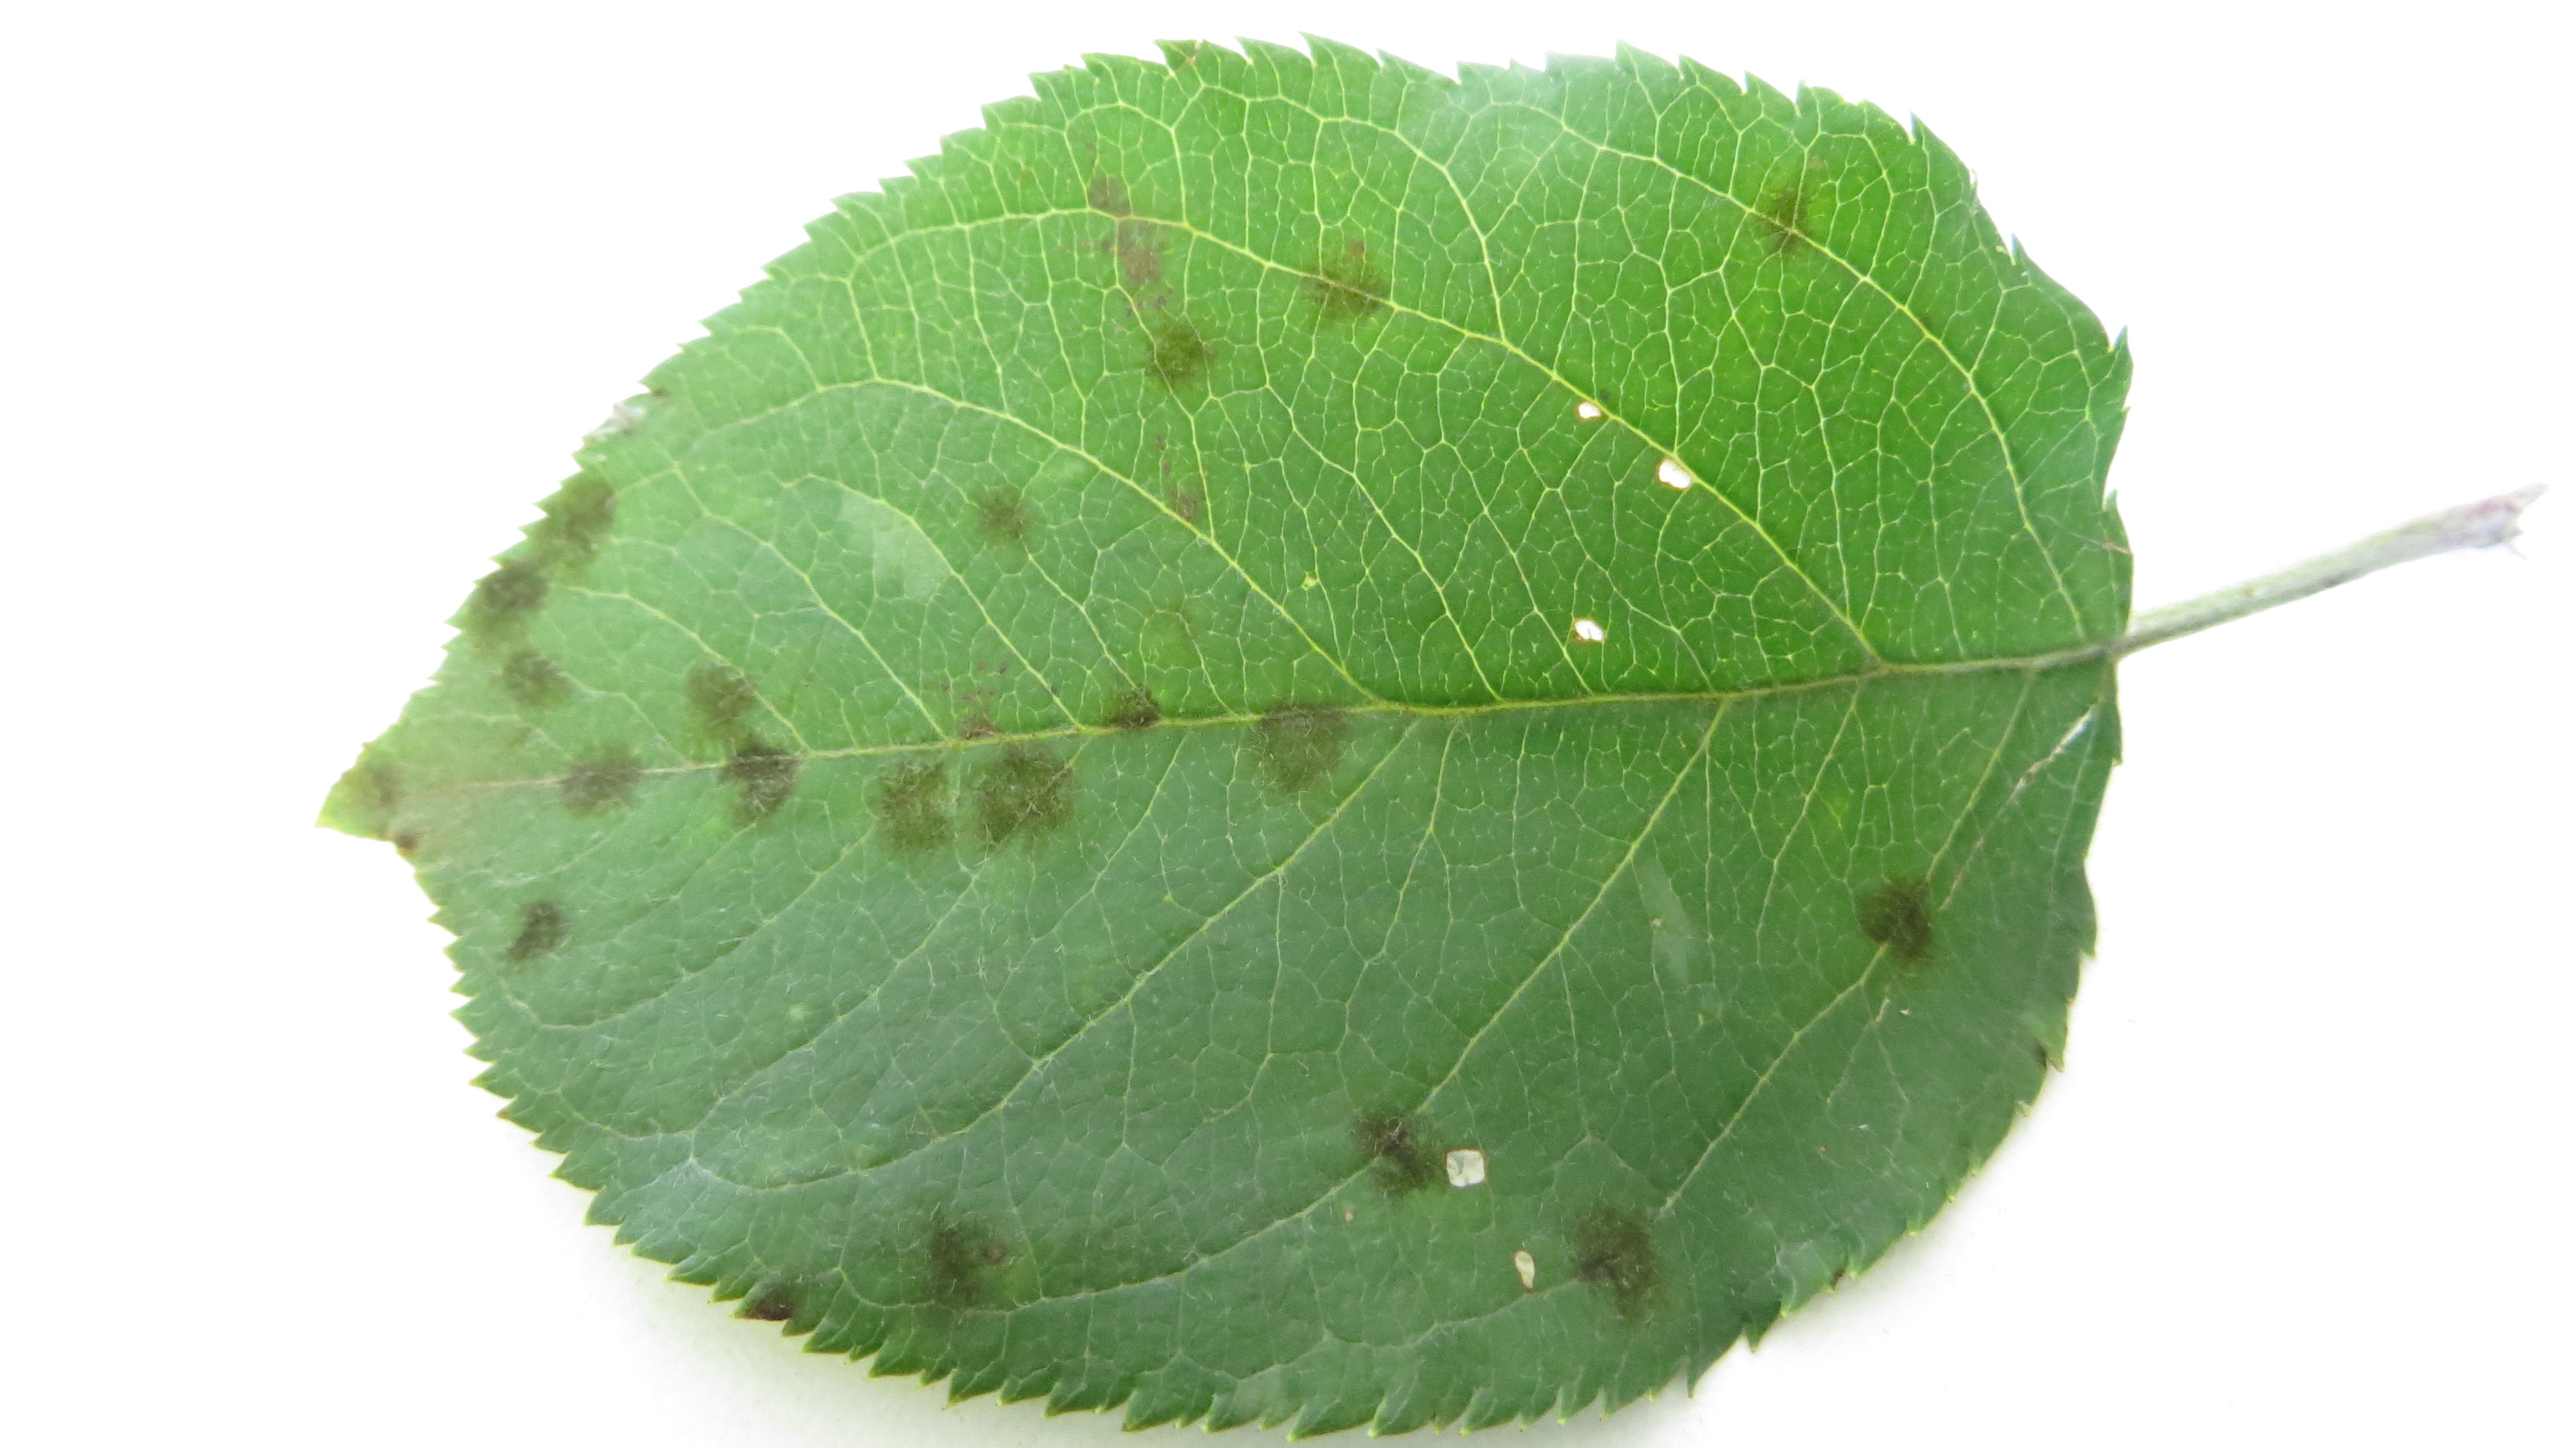sarna: (1076, 170, 1189, 308), (1237, 687, 1357, 802), (1345, 1089, 1456, 1209), (968, 738, 1085, 851), (847, 747, 957, 862), (541, 722, 660, 828), (1557, 1202, 1658, 1321), (345, 736, 441, 859), (911, 1214, 1005, 1335), (1281, 243, 1398, 336), (533, 458, 632, 565), (1854, 862, 1941, 974), (924, 660, 1024, 749), (487, 889, 579, 982), (446, 554, 556, 632), (1146, 312, 1235, 407), (1088, 660, 1180, 751), (487, 637, 587, 719), (1741, 170, 1822, 267), (720, 736, 807, 823), (683, 655, 770, 736), (966, 476, 1053, 556), (736, 1259, 812, 1347), (1139, 458, 1214, 540)
